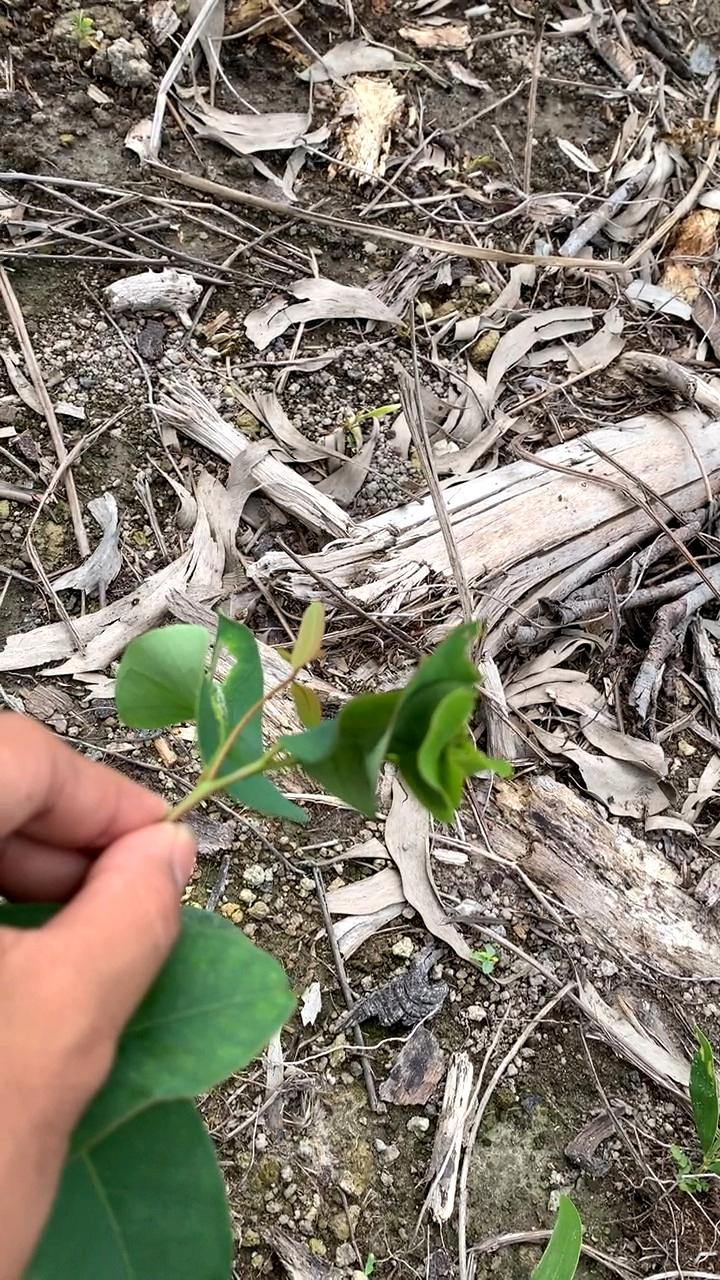Leaf Roller - Leaf: (291, 593, 523, 852)
